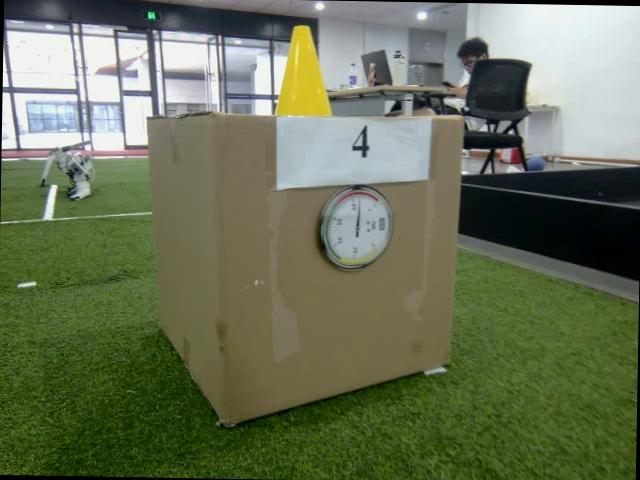4: (350, 124, 370, 158)
Dashboard: (318, 184, 396, 272)
ssi: (377, 216, 386, 230)
yellow_barrel: (273, 23, 334, 117)
